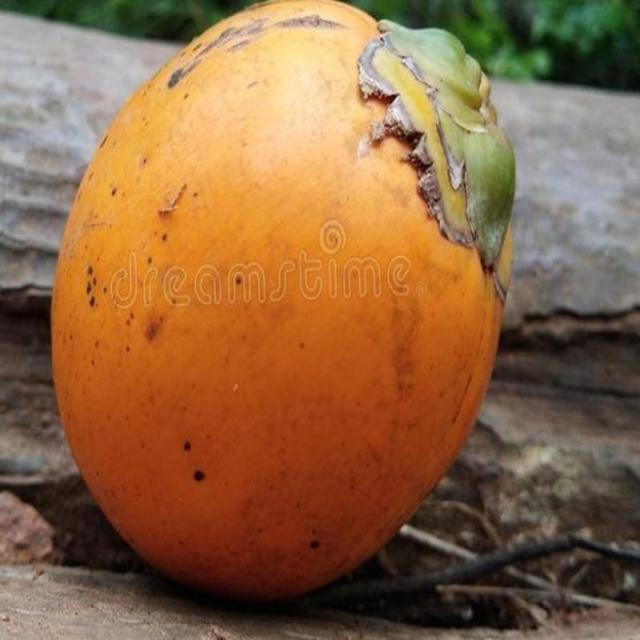good: (52, 0, 514, 597)
